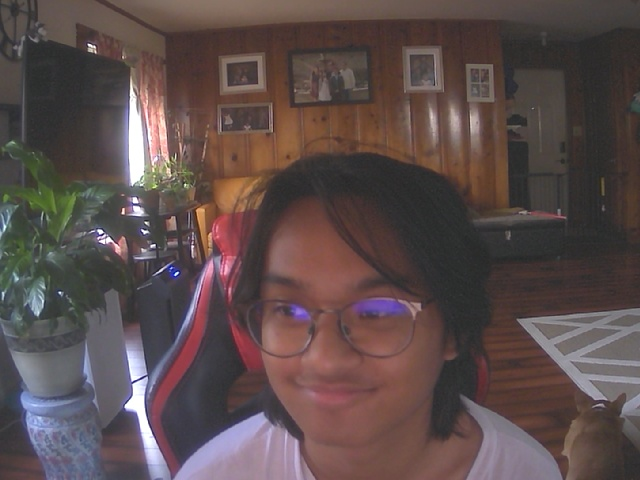happy: (234, 163, 473, 450)
